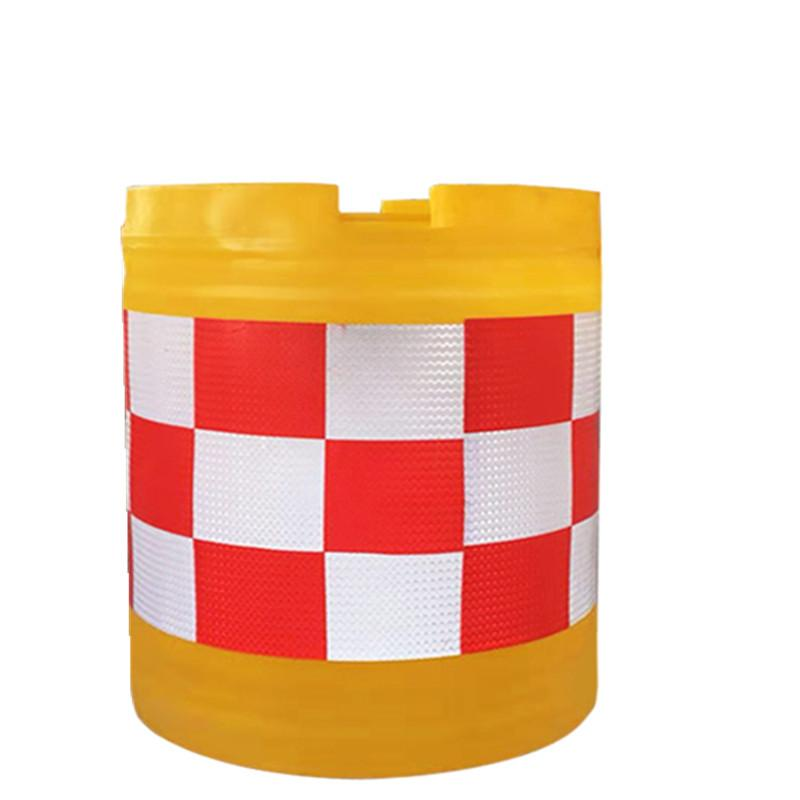sign: (107, 173, 624, 780)
